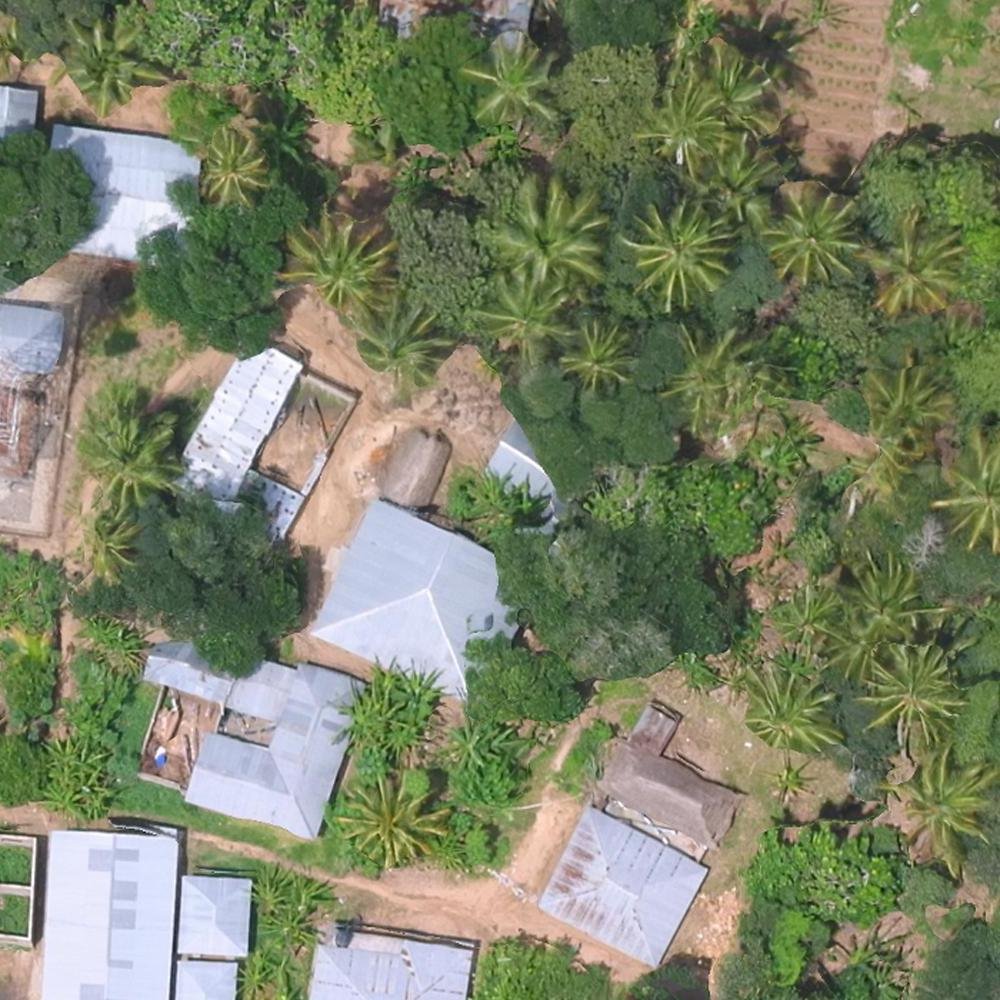Palm: (496, 174, 608, 281), (284, 207, 393, 309), (624, 200, 735, 297), (898, 749, 991, 860), (75, 401, 179, 497), (737, 661, 847, 750), (768, 191, 864, 288), (868, 648, 965, 741), (868, 217, 964, 310), (57, 22, 162, 106), (458, 41, 557, 124), (350, 777, 446, 859), (637, 78, 728, 164), (860, 368, 951, 449), (360, 304, 447, 386), (698, 140, 777, 230), (478, 271, 565, 348), (844, 561, 925, 641), (191, 131, 264, 204), (558, 323, 636, 391)
